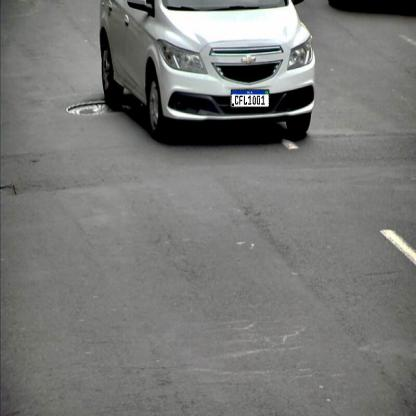PlacaM: (231, 90, 269, 107)
